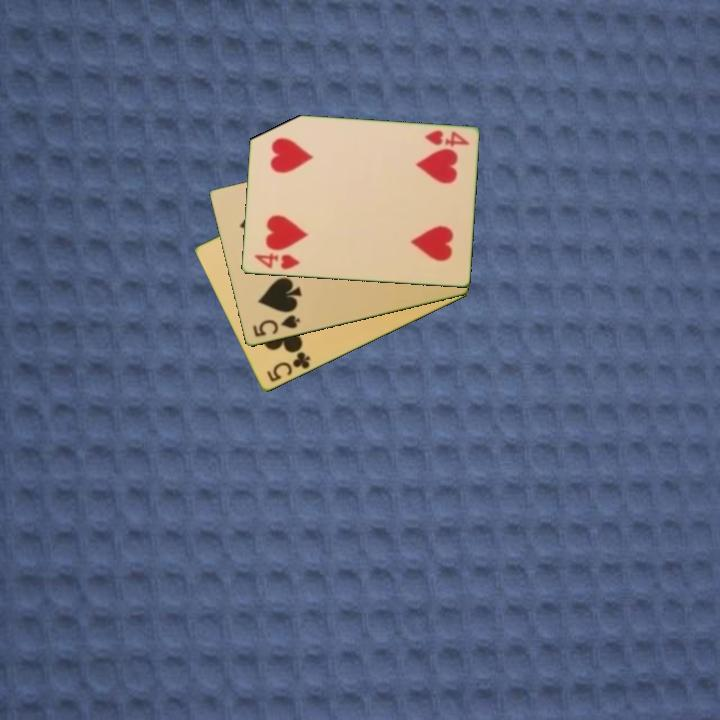4h: (251, 250, 302, 273), (421, 127, 471, 150)
5c: (263, 348, 313, 385)
5s: (249, 311, 303, 340)
